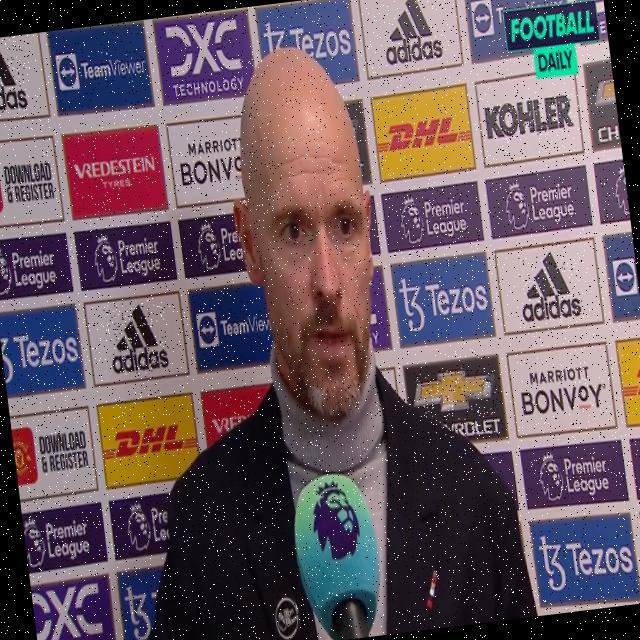Adidas: (103, 297, 171, 377), (516, 251, 583, 325), (376, 0, 443, 66), (0, 34, 29, 116)
Chevrolet: (413, 363, 501, 443)
Kohler: (482, 94, 574, 142)
TeamViewer: (56, 42, 148, 91)
